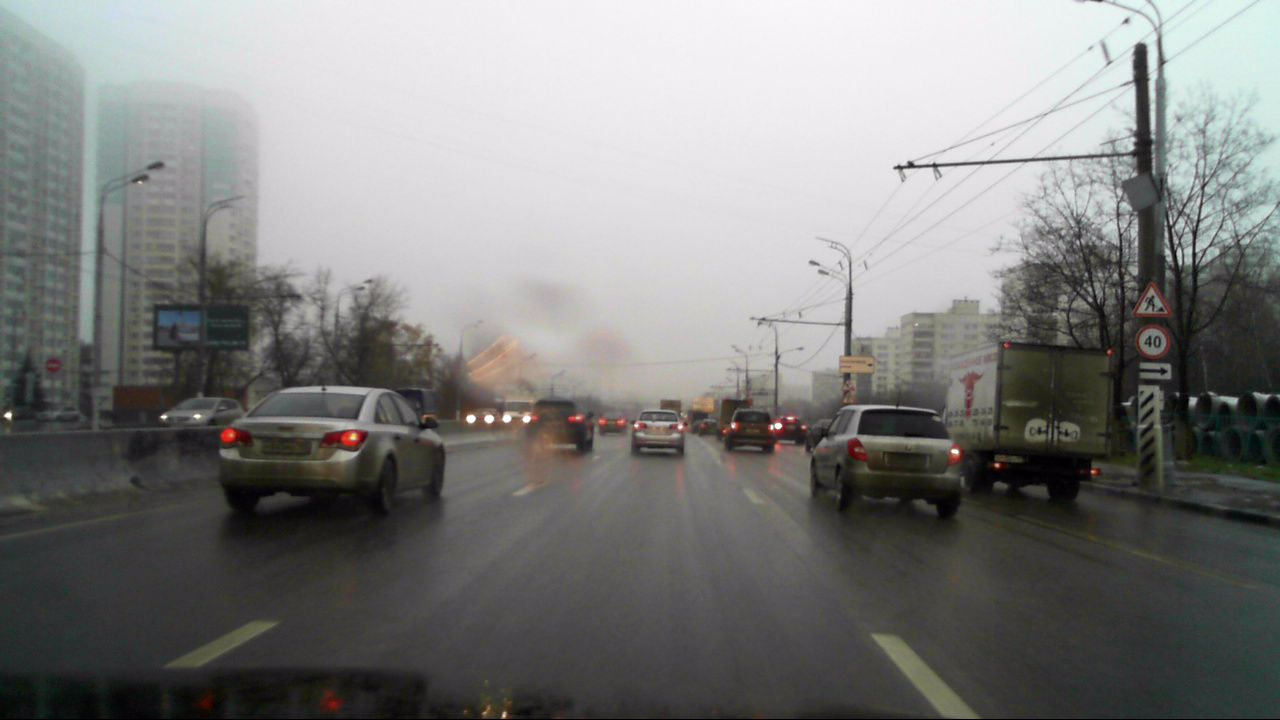speed_warning_40: (1134, 324, 1169, 358)
